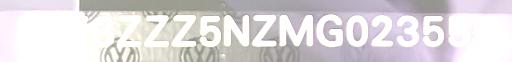letter: (46, 15, 90, 47), (278, 13, 314, 47), (315, 11, 345, 47), (114, 13, 144, 47), (16, 13, 44, 47), (223, 14, 251, 48), (369, 11, 395, 47), (250, 14, 278, 46), (171, 13, 197, 47), (344, 13, 370, 47), (90, 14, 116, 48), (144, 14, 170, 48), (196, 14, 222, 46), (396, 12, 420, 46), (421, 14, 445, 46), (446, 15, 470, 47), (473, 14, 495, 46)
